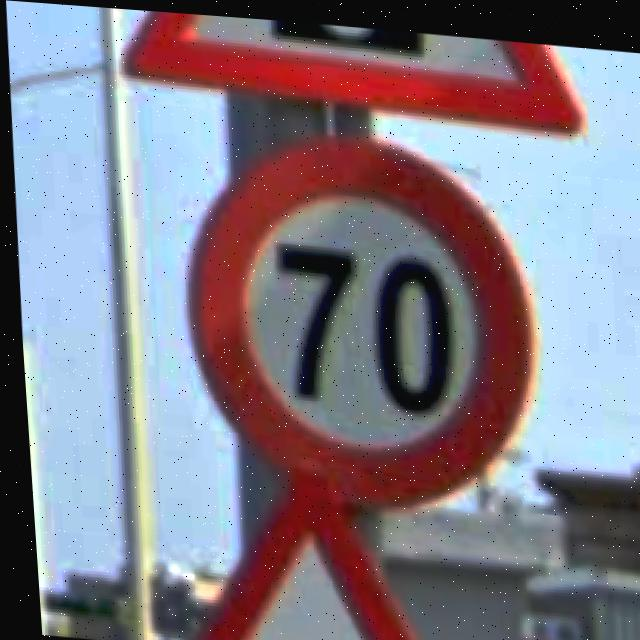max70: (166, 111, 542, 515)
